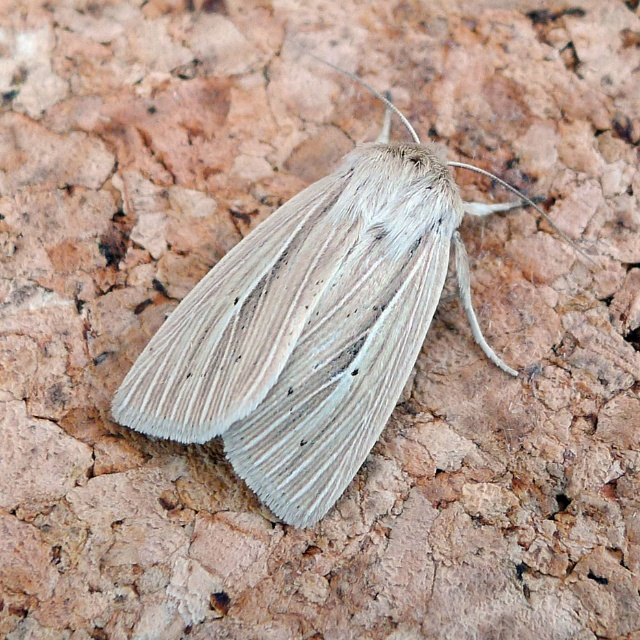Butterfly: (114, 66, 545, 535)
